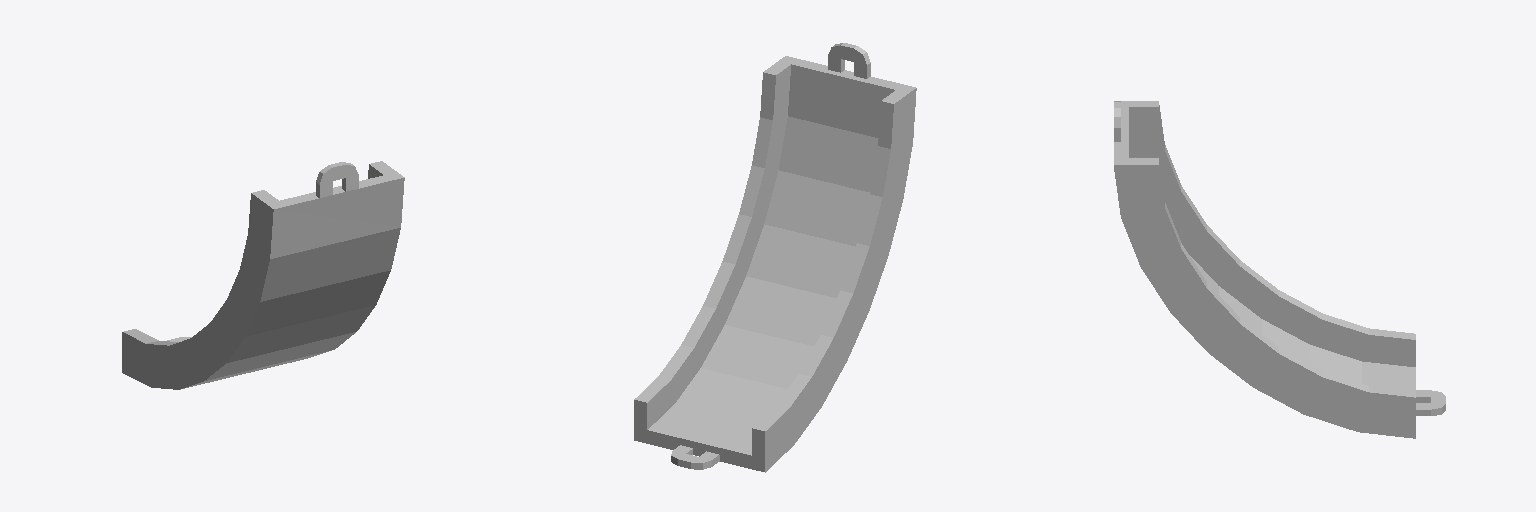
File: track-narrow-straight-bend.obj
The picture shows the model from 3 angles: view 1: azimuth 30°, elevation 25°; view 2: azimuth 150°, elevation 25°; view 3: azimuth 270°, elevation 25°; orthographic projection.
Parts seen in each view (by area): view 1: track-narrow-straight-bend; view 2: track-narrow-straight-bend; view 3: track-narrow-straight-bend.
Part boxes in pixels (x1,y1,x2,y2): track-narrow-straight-bend: (122,161,404,389); track-narrow-straight-bend: (634,43,916,472); track-narrow-straight-bend: (1114,101,1445,438).
Bounding box in the file's own units: 1 × 2.2 × 2.2.